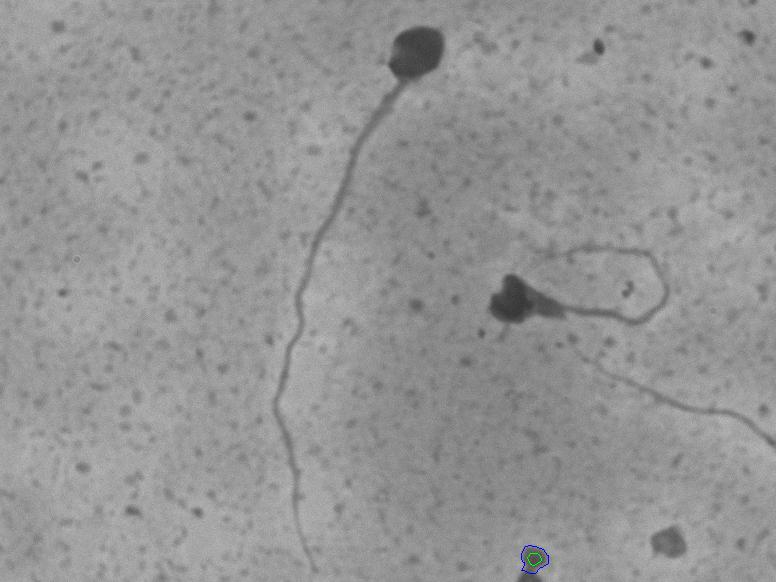Abnormal: (248, 23, 457, 574), (471, 230, 698, 341)
